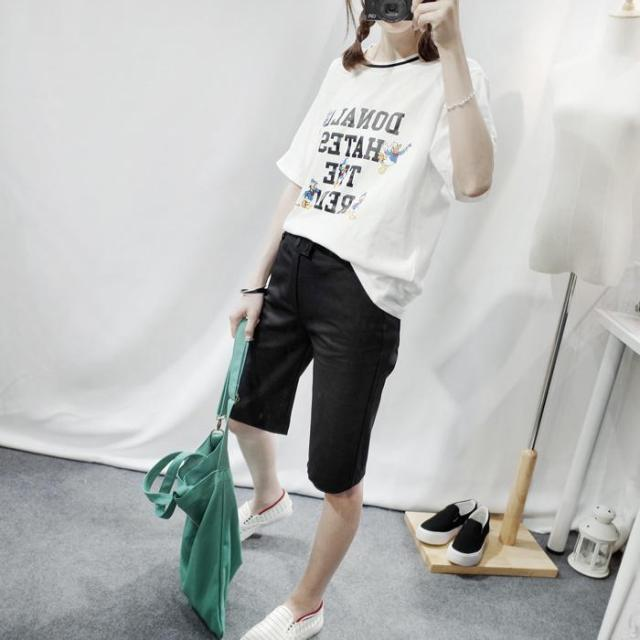short sleeve top: (278, 47, 494, 317)
shorts: (224, 233, 400, 474)
